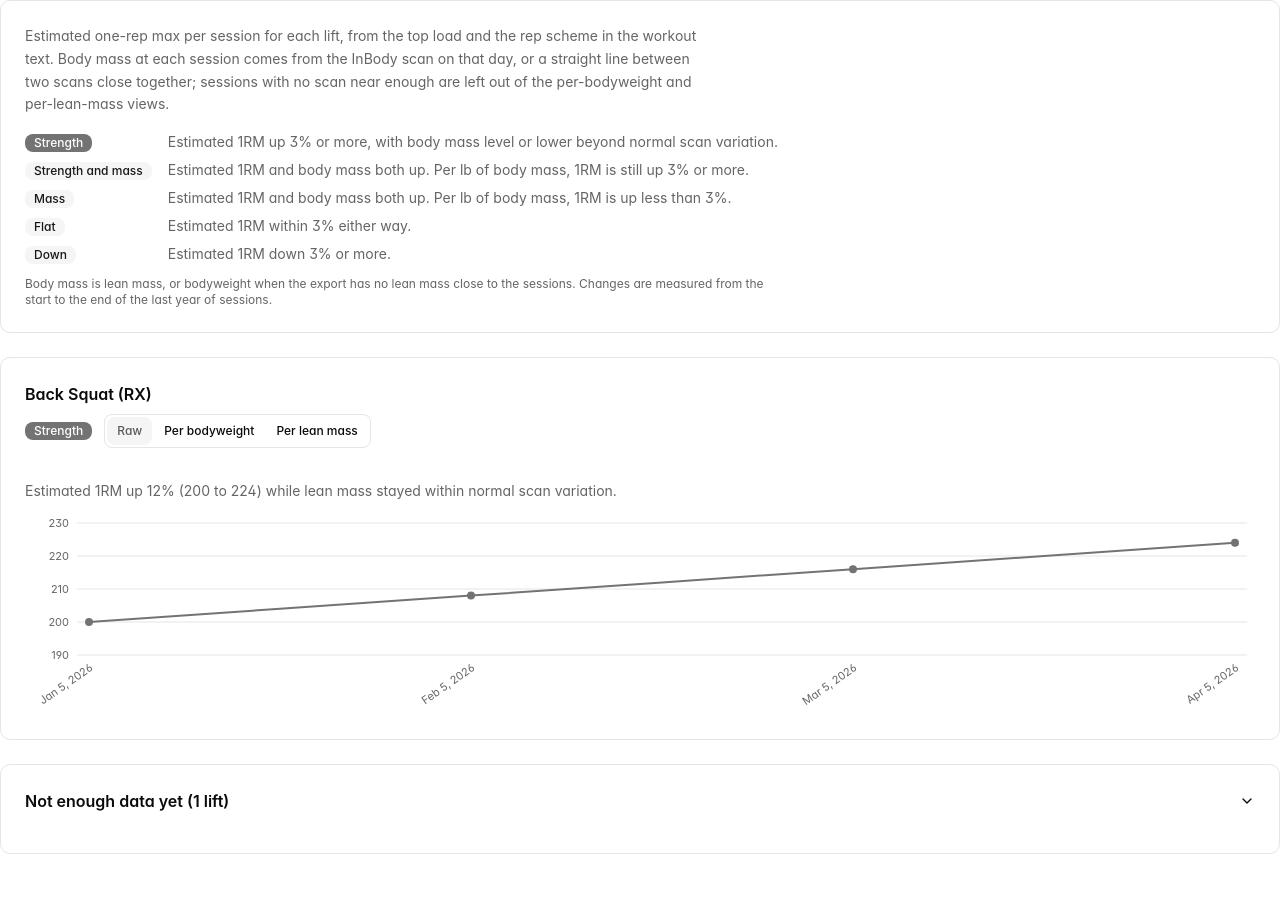
Scenario: StrengthSection › lists lifts that fail eligibility collapsed, each with its reason
Expected: the text "needs 2 more logged sessions" is not shown
Click the button "Not enough data yet (1 lift)".
click(109, 801)  # box [25, 789, 1255, 813]
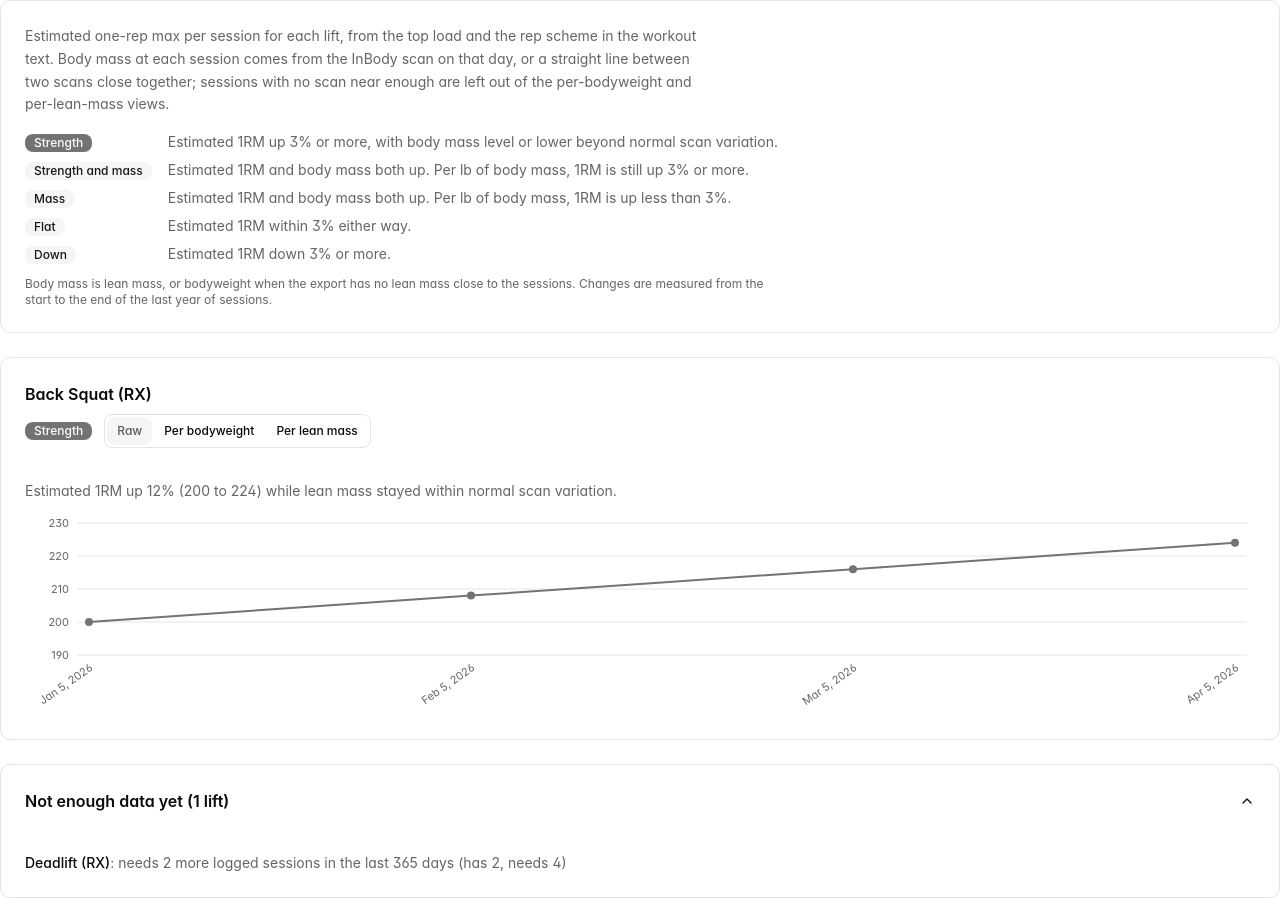
Result: the text "Deadlift (RX)" is shown at [25, 854, 110, 871]
Result: the text "needs 2 more logged sessions" is shown at [118, 854, 567, 871]
